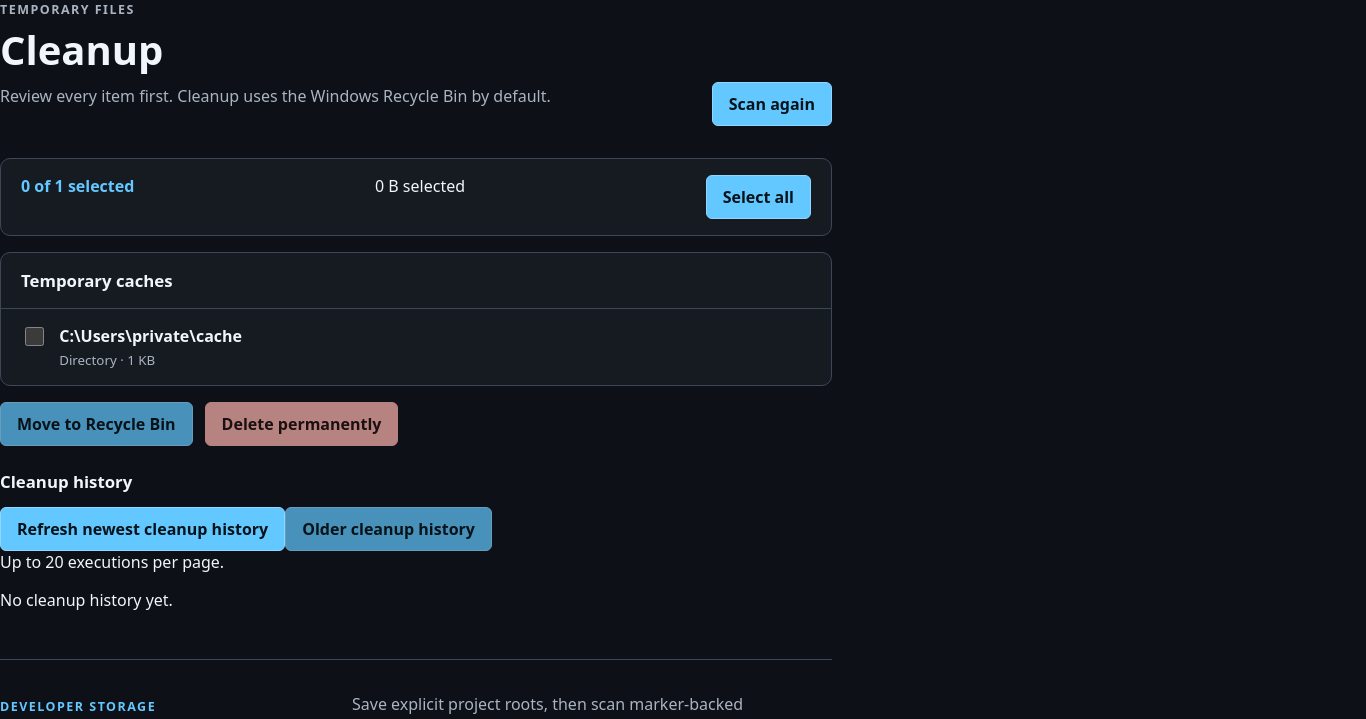
Test: CleanupPreviewPage › sends opaque identifiers only through safe mutation IPC
Click the checkbox at (35, 337), box left=25, top=327, right=44, bottom=346
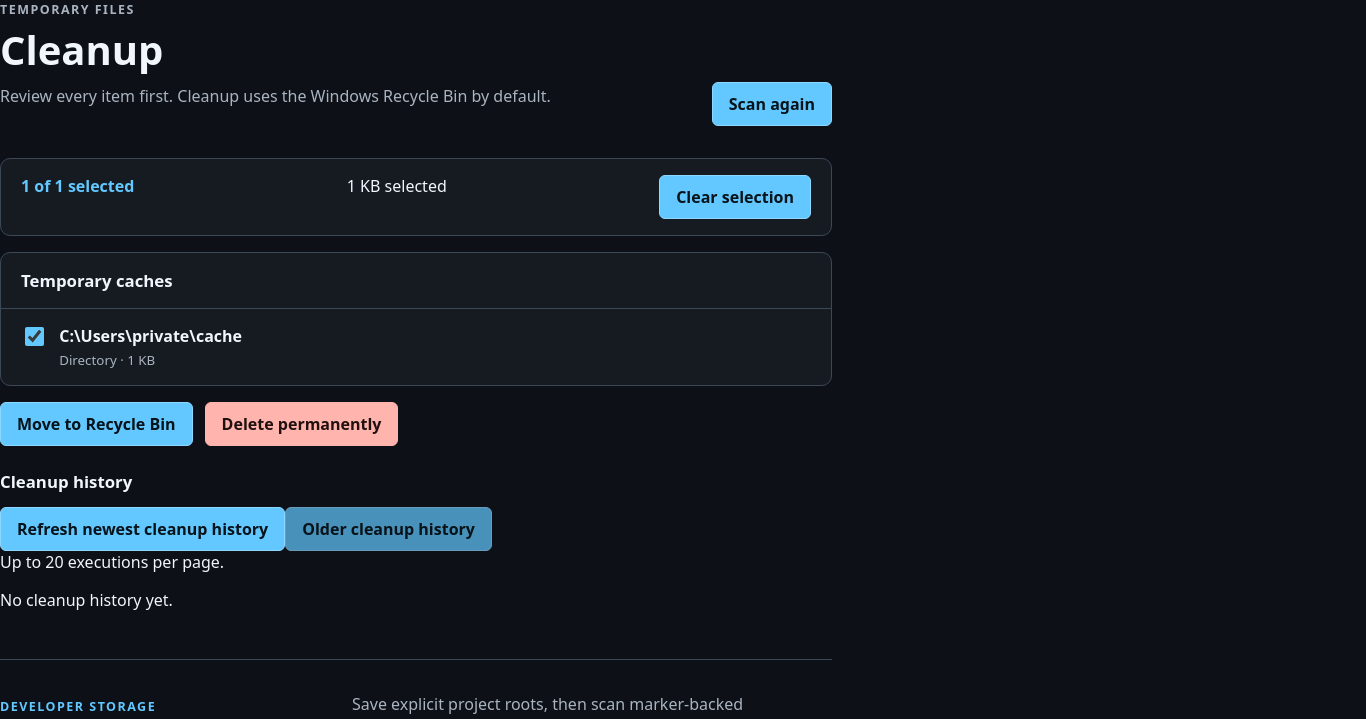
Click the button "Move to Recycle Bin" at (96, 424), box left=0, top=402, right=193, bottom=446
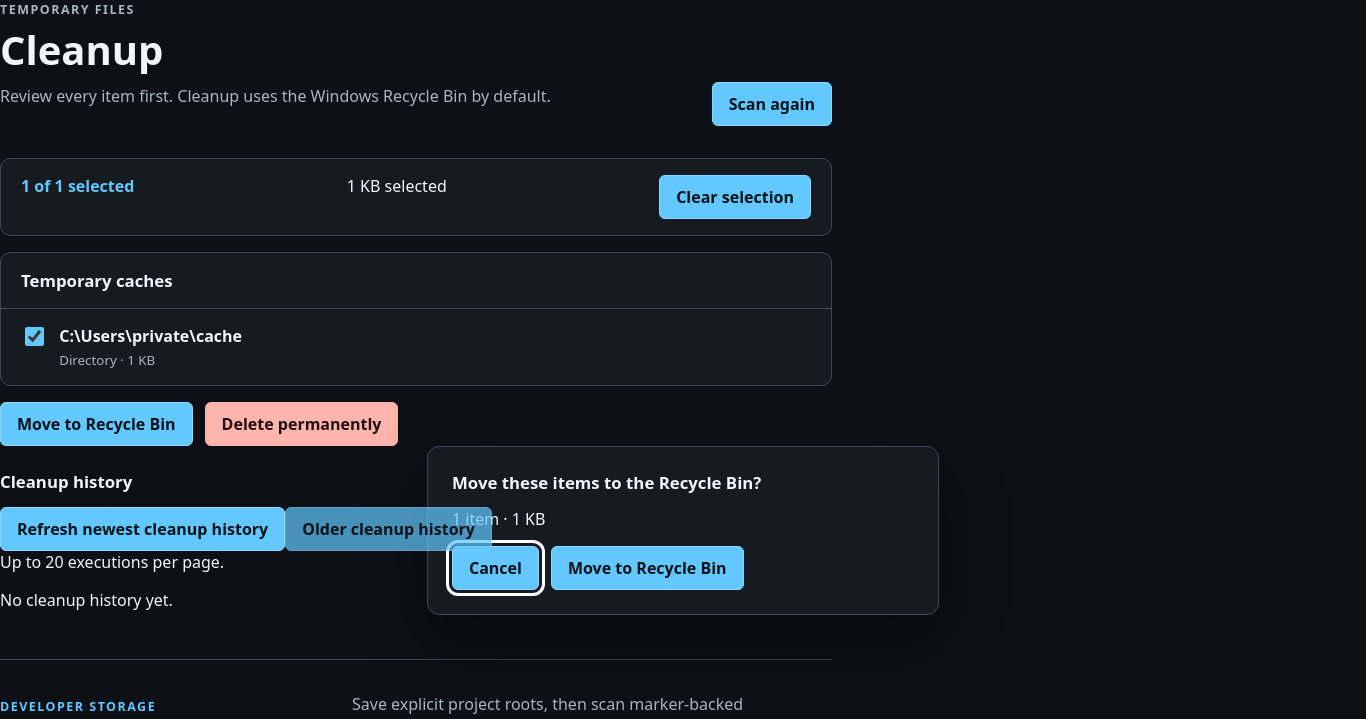
Click the button "Move to Recycle Bin" below "1 item" at (647, 568), box left=551, top=546, right=744, bottom=590
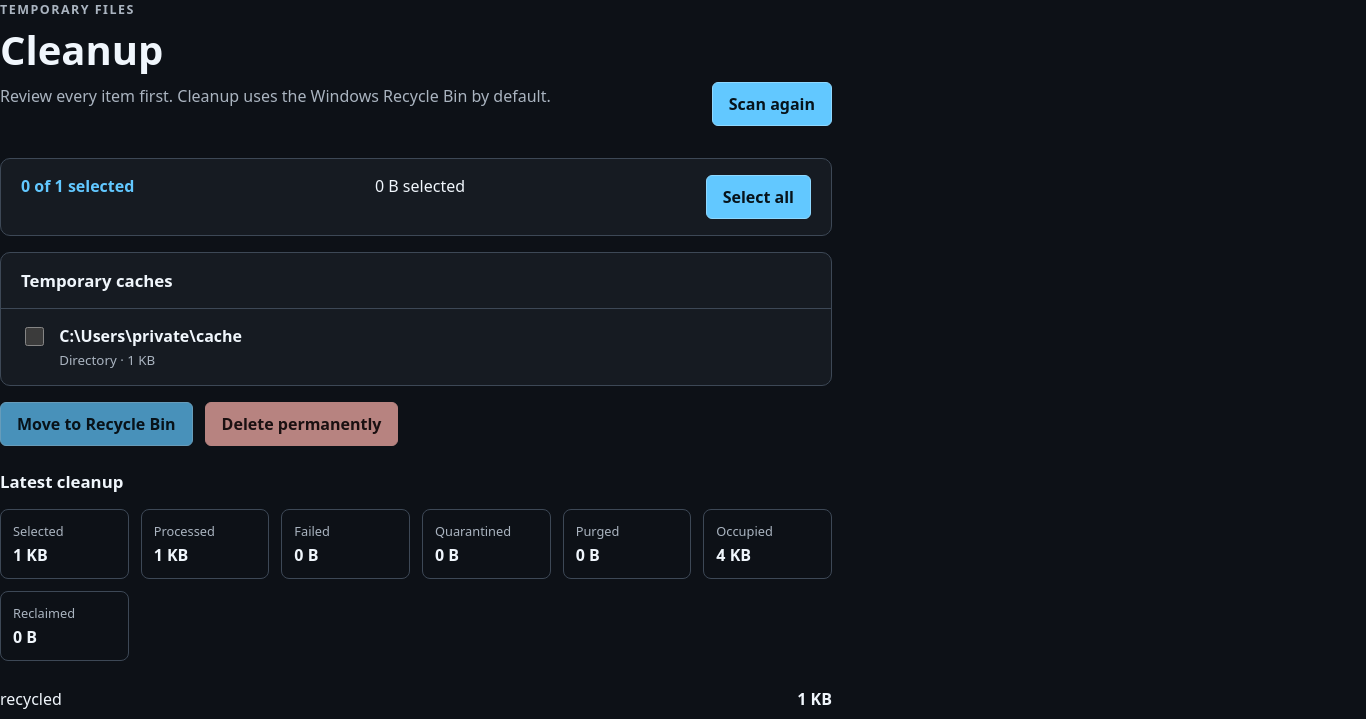
Check: the heading "Latest cleanup" is shown, box left=0, top=470, right=123, bottom=493
